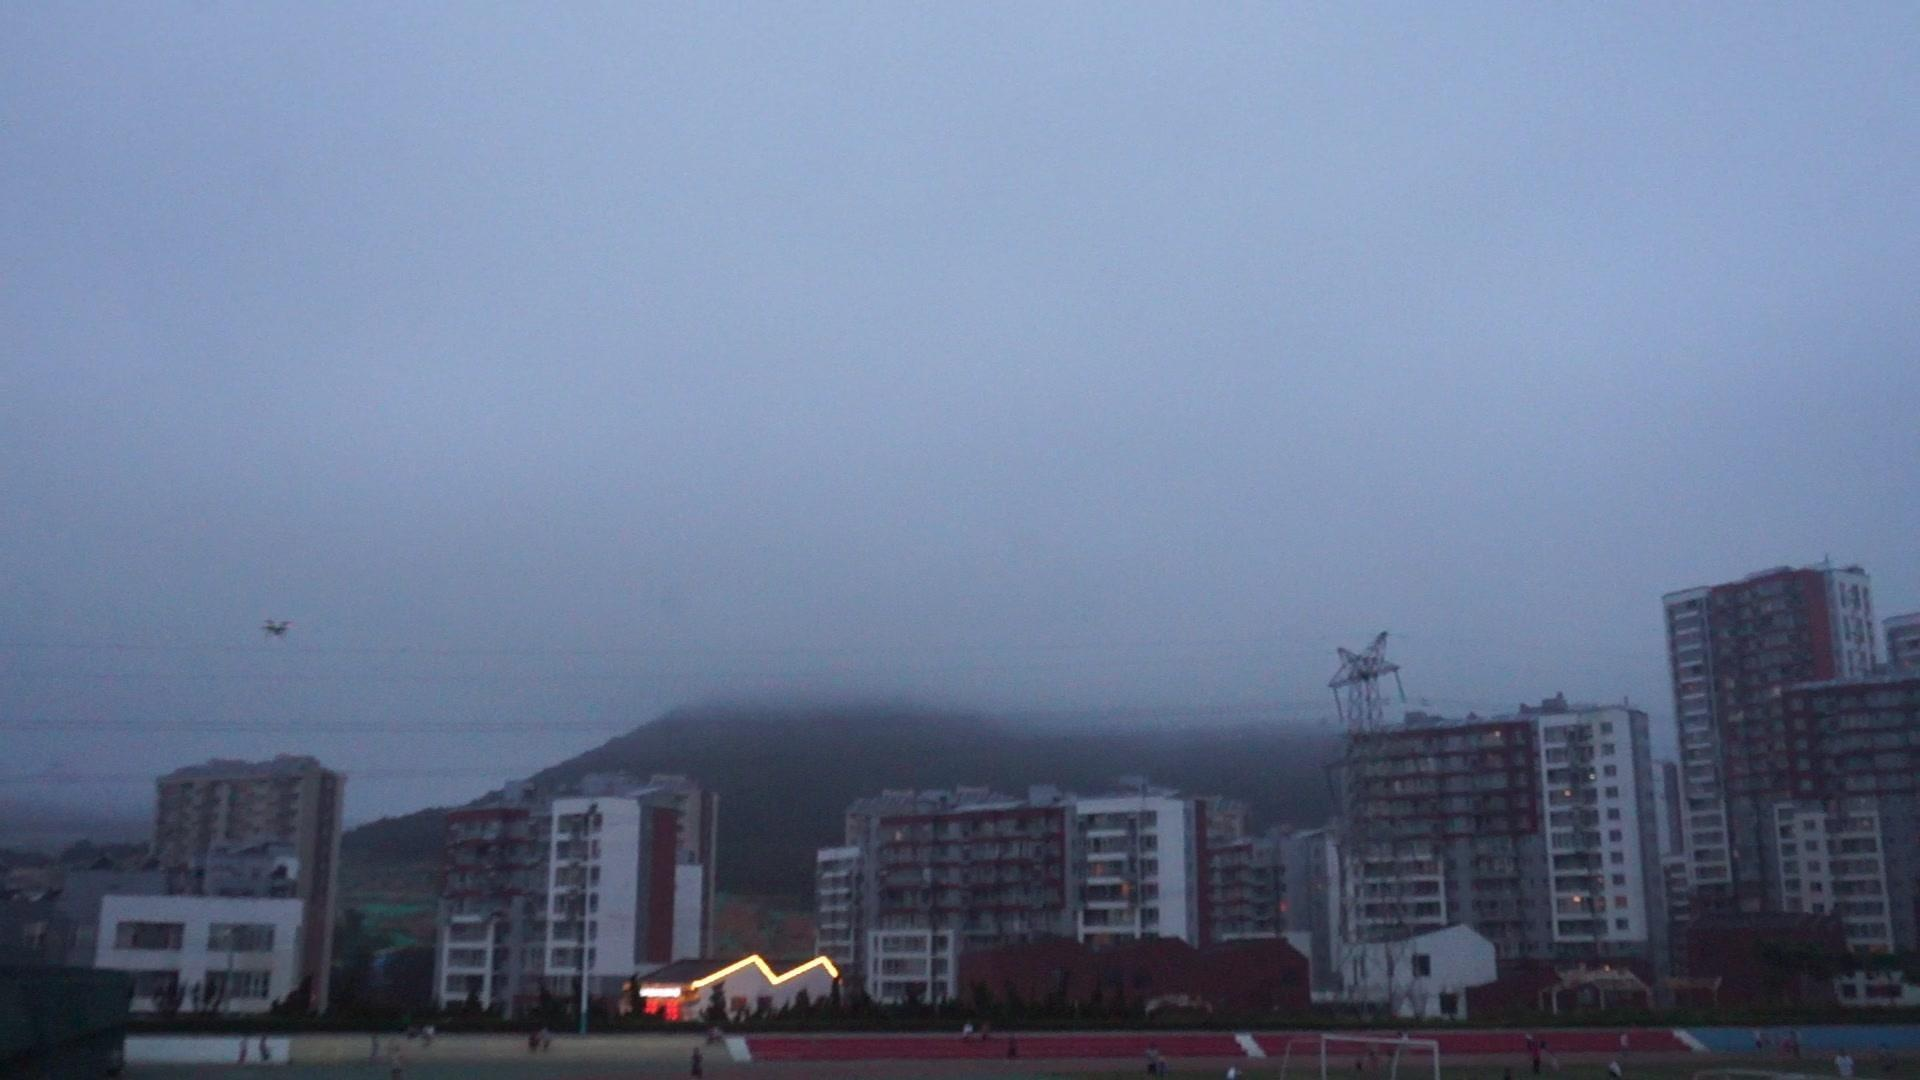UAV: (262, 618, 295, 637)
